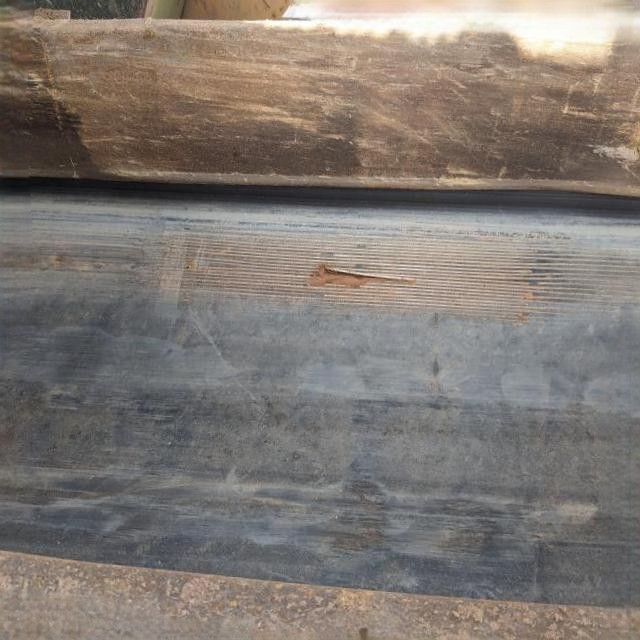Wear: (0, 202, 640, 316)
